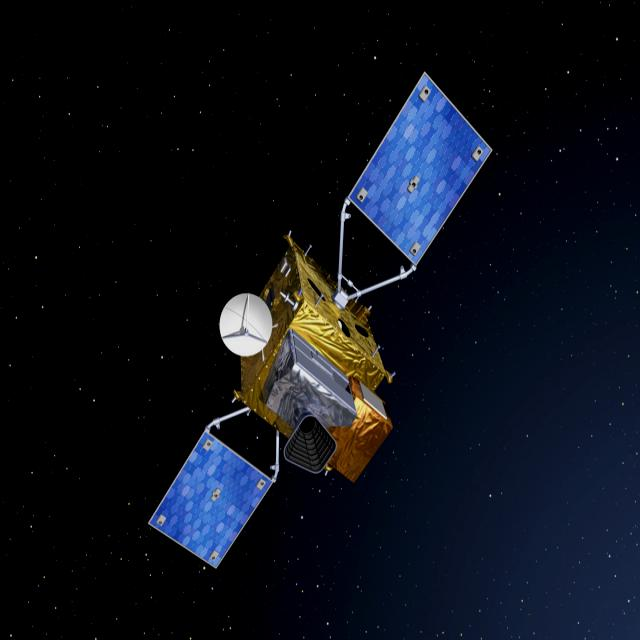satellite: (128, 54, 500, 578)
